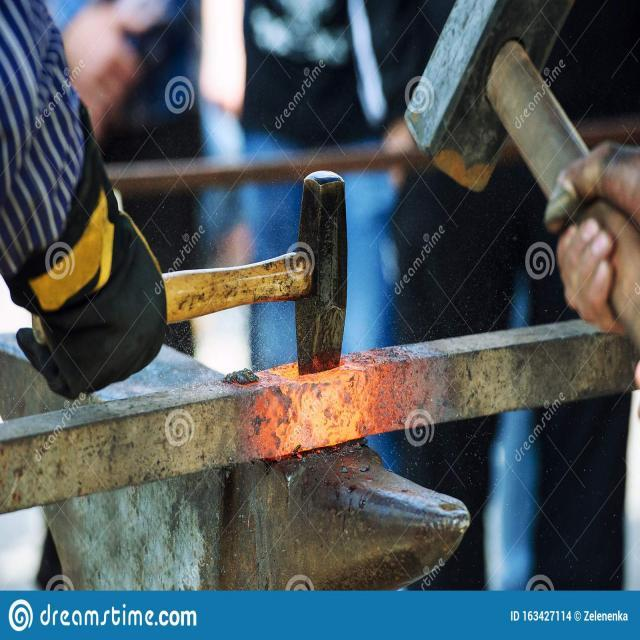hammer: (401, 0, 640, 367), (17, 161, 358, 394)
